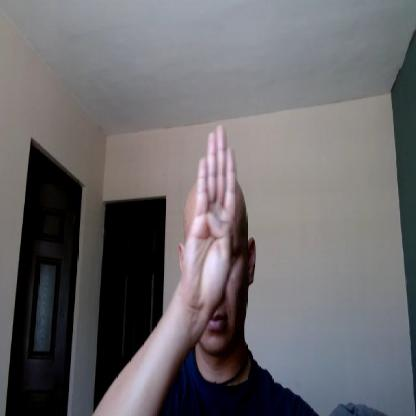B: (183, 123, 235, 313)
